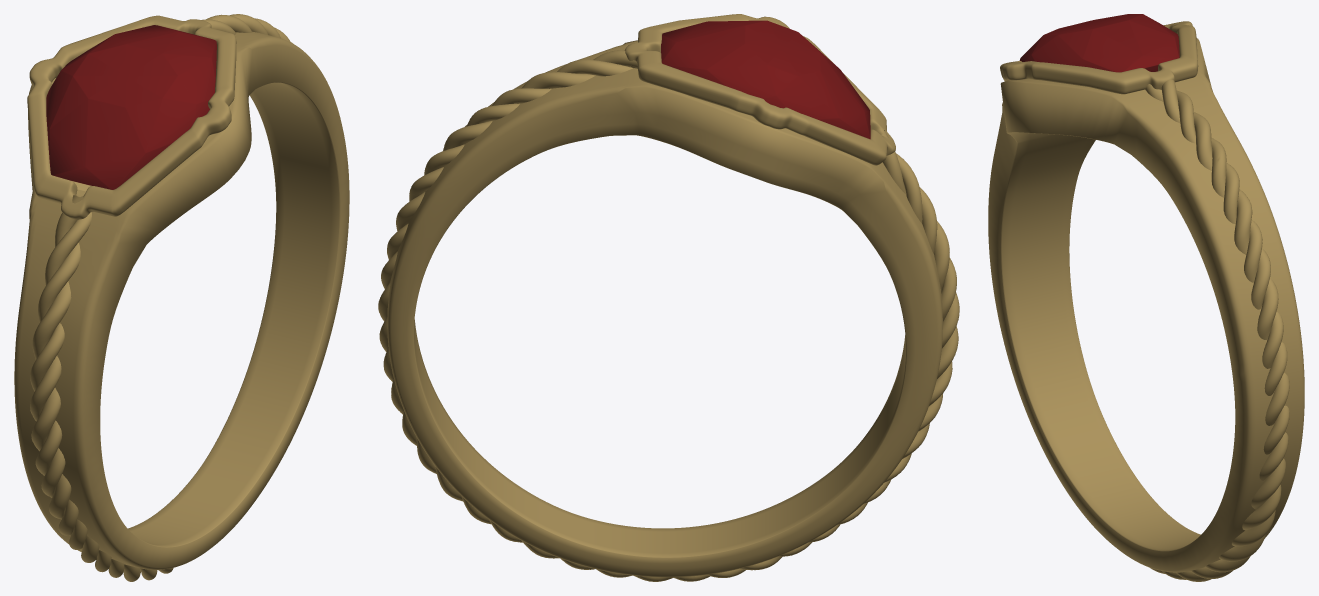
File: asset.glb
3 views of the same model, side by side, from view 1: azimuth 30°, elevation 25°; view 2: azimuth 150°, elevation 25°; view 3: azimuth 270°, elevation 25° (orthographic). The views are drawn at different scales.
Visible parts, largest first — view 1: Plane.001, Gem.001, BezierCircle.013; view 2: Plane.001, BezierCircle.013, Gem.001; view 3: Plane.001, BezierCircle.013, Gem.001.
Boxes of the visible parts, box(x1,y1,x2,y2) form: Plane.001: box(14, 15, 349, 569); Gem.001: box(46, 25, 216, 189); BezierCircle.013: box(30, 14, 292, 581); Plane.001: box(387, 14, 942, 577); BezierCircle.013: box(378, 50, 959, 581); Gem.001: box(661, 20, 870, 139); Plane.001: box(988, 21, 1304, 572); BezierCircle.013: box(1145, 79, 1289, 581); Gem.001: box(1019, 14, 1179, 72).
Size of the model in its own units: 0.1193 by 0.1399 by 0.0786.
